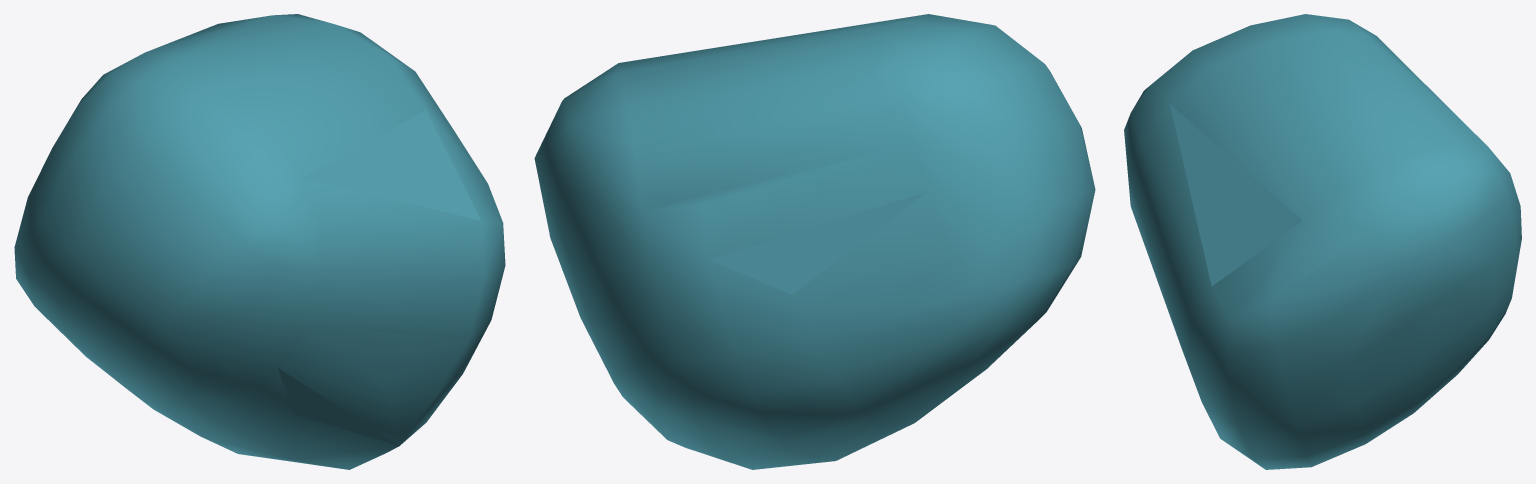
The model's file is COL_Alpha_Surface_034_convex_hull.dae.
3 renders of one model, left to right at view 1: azimuth 30°, elevation 25°; view 2: azimuth 150°, elevation 25°; view 3: azimuth 270°, elevation 25°, orthographic. The views are drawn at different scales.
Parts seen in each view (by area): view 1: COL_Alpha_Surface_034_convex_hull; view 2: COL_Alpha_Surface_034_convex_hull; view 3: COL_Alpha_Surface_034_convex_hull.
Boxes of the visible parts, x1,y1,x2,y2 form: COL_Alpha_Surface_034_convex_hull: (14,14,505,469); COL_Alpha_Surface_034_convex_hull: (534,14,1095,469); COL_Alpha_Surface_034_convex_hull: (1124,14,1521,469).
Bounding box in the file's own units: 4.73 × 4.26 × 4.37.
